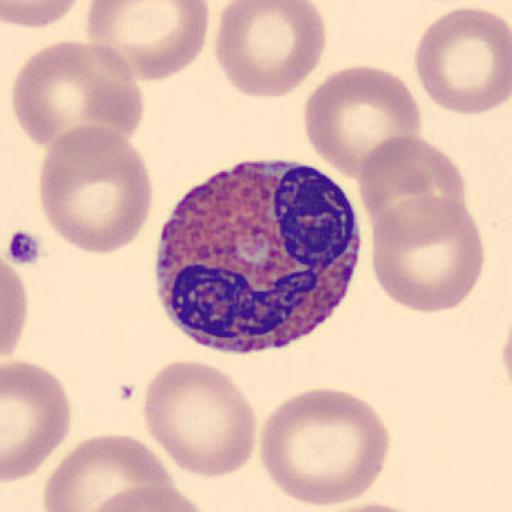RBC: (259, 386, 392, 508), (37, 122, 155, 256), (10, 38, 146, 152), (303, 63, 422, 184), (370, 193, 486, 315), (142, 358, 258, 480), (356, 133, 469, 239), (213, 1, 327, 101), (413, 5, 511, 116), (42, 433, 176, 512), (84, 0, 210, 83), (12, 39, 98, 149), (2, 358, 72, 483), (357, 133, 439, 235), (54, 465, 184, 512), (80, 485, 208, 512), (1, 258, 29, 360), (2, 0, 85, 30), (318, 502, 436, 512)
WBC: (153, 157, 362, 354)
